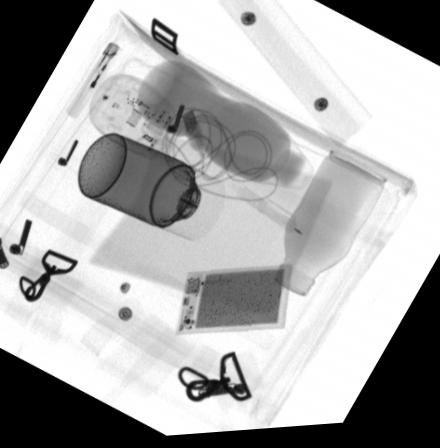Lighter: (62, 43, 118, 121)
Powerbank: (173, 270, 291, 339)
Sprayer: (78, 137, 222, 243)
